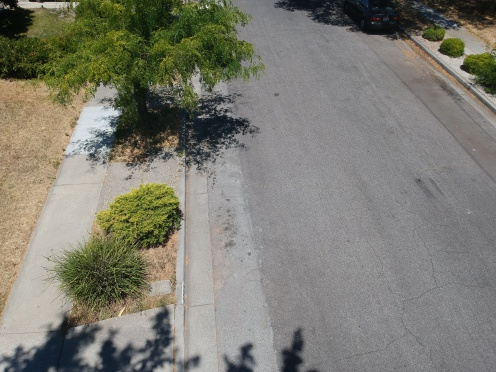can: (244, 250, 256, 257)
